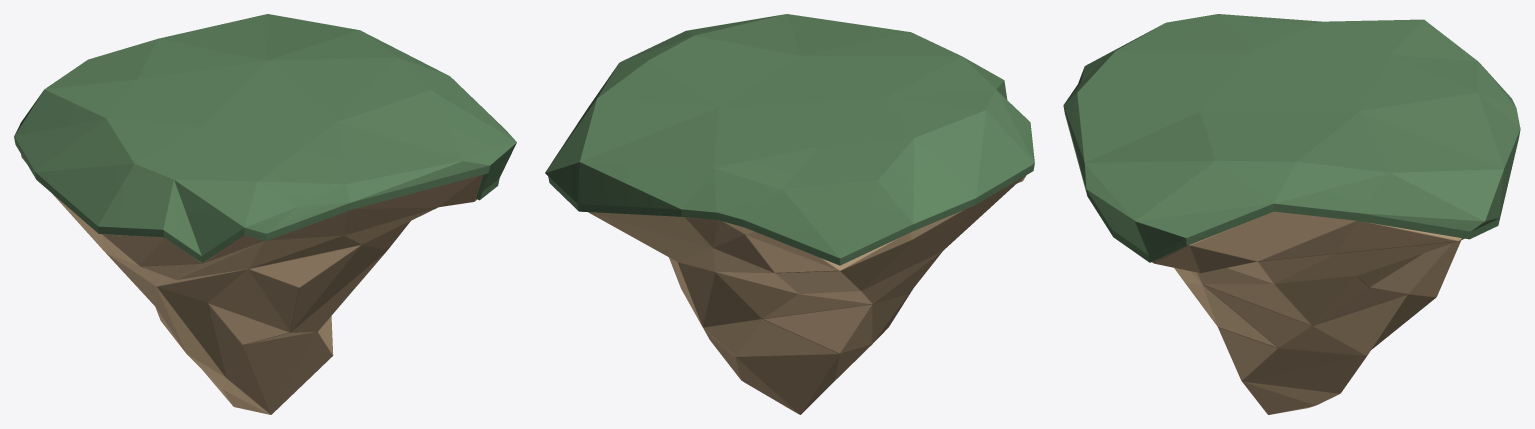
Rendered from Island big.fbx.
The picture shows the model from 3 angles, left to right: view 1: azimuth 30°, elevation 25°; view 2: azimuth 150°, elevation 25°; view 3: azimuth 270°, elevation 25°; orthographic projection. The views are drawn at different scales.
Visible parts, largest first — view 1: pCube1, pCube2; view 2: pCube1, pCube2; view 3: pCube1, pCube2.
Part boxes in pixels (<box>): pCube1: <box>14,14,516,263</box>; pCube2: <box>21,154,482,414</box>; pCube1: <box>545,14,1034,265</box>; pCube2: <box>588,175,1026,414</box>; pCube1: <box>1063,14,1520,262</box>; pCube2: <box>1152,211,1464,414</box>.
Size of the model in its own units: 17.95 by 13.46 by 17.09.
